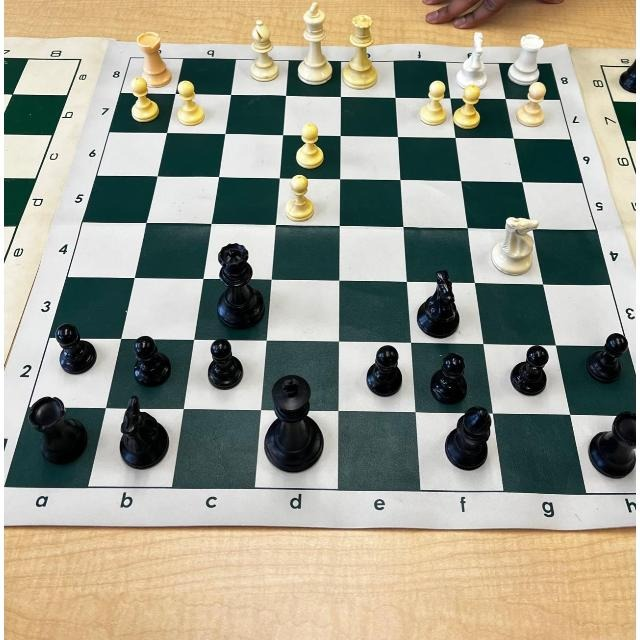black-bishop: (440, 404, 494, 472)
black-king: (265, 371, 325, 477)
black-knight: (405, 270, 468, 339), (111, 398, 169, 470)
black-pawn: (129, 329, 175, 391), (359, 343, 406, 399), (586, 328, 628, 388), (203, 335, 244, 391), (508, 346, 552, 398), (54, 317, 94, 373), (426, 353, 468, 403)
black-queen: (203, 241, 267, 333)
black-rook: (24, 386, 92, 467), (585, 407, 637, 480)
white-bishop: (248, 21, 280, 83)
white-king: (298, 0, 333, 85)
white-knight: (492, 211, 539, 275), (458, 25, 488, 83)
white-pawn: (280, 175, 319, 223), (173, 76, 205, 131), (126, 79, 160, 125), (420, 77, 447, 130), (292, 128, 325, 170), (522, 82, 550, 130), (461, 87, 482, 127)
white-queen: (346, 9, 380, 89)
white-rook: (127, 27, 174, 86), (515, 30, 543, 81)
